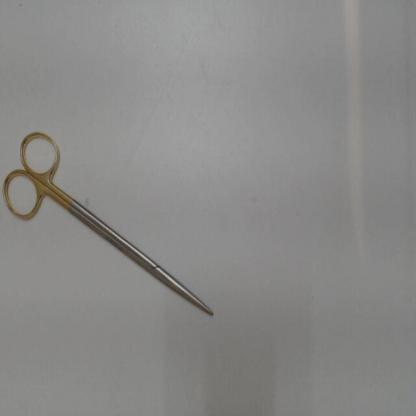7 Metzenbaum Scissors: (2, 129, 214, 316)
